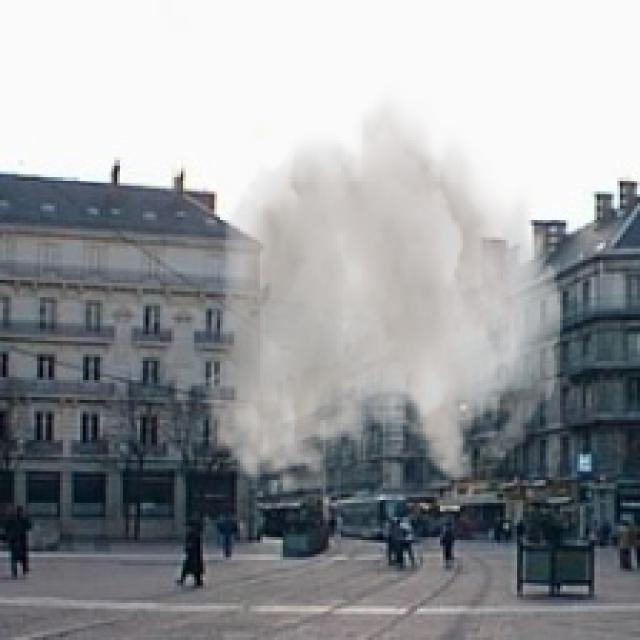Smoke: (206, 82, 563, 498)
